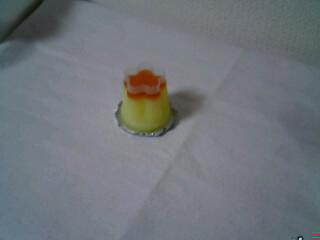001_classes: (107, 60, 185, 140)
